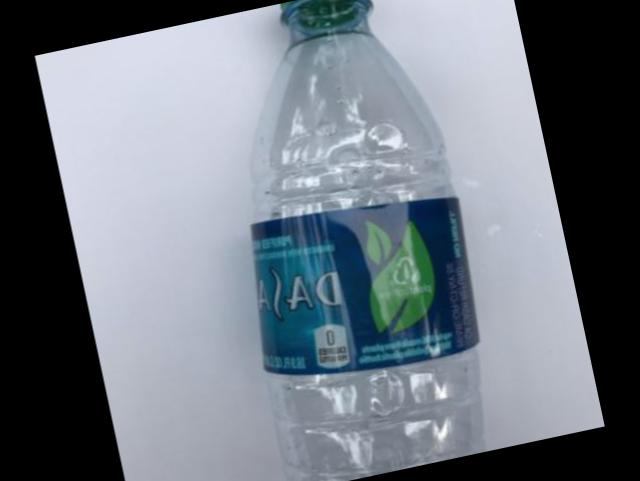plastic: (249, 0, 481, 481)
